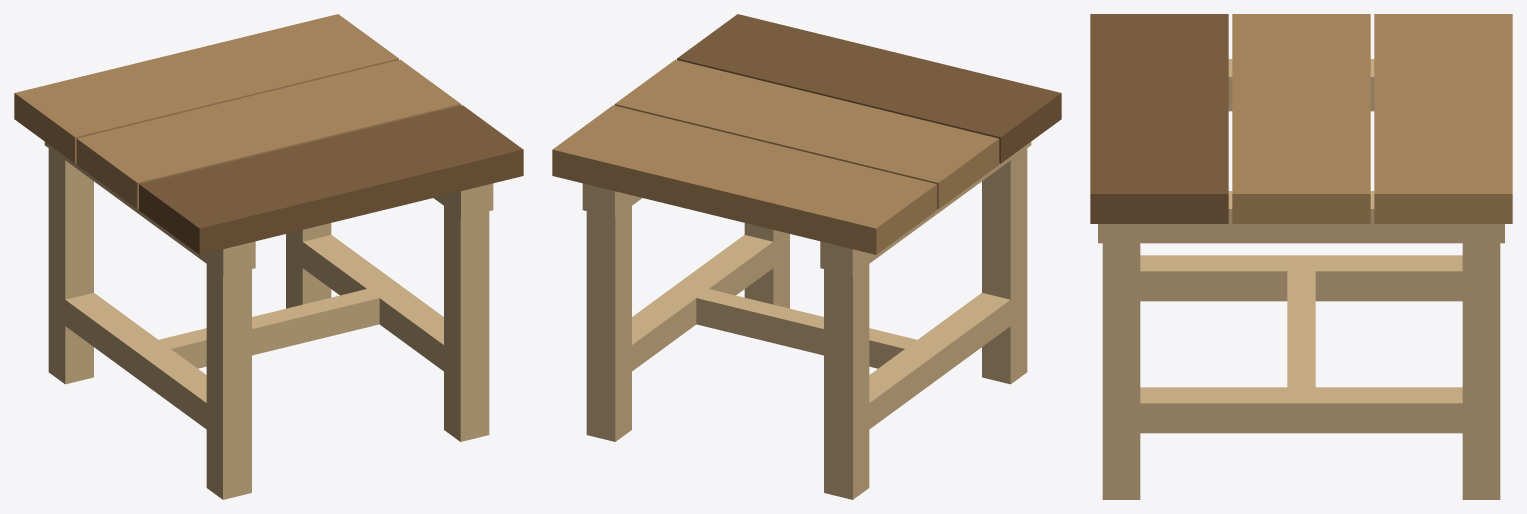
Rendered from TW_TABLE_SQUARE_A_LOD0.glb.
3 renders of one model, left to right at view 1: azimuth 30°, elevation 25°; view 2: azimuth 150°, elevation 25°; view 3: azimuth 270°, elevation 25°, orthographic. The views are drawn at different scales.
Visible parts, largest first — view 1: TW_TABLE_SQUARE_A_LOD0; view 2: TW_TABLE_SQUARE_A_LOD0; view 3: TW_TABLE_SQUARE_A_LOD0.
Part boxes in pixels (x1,y1,x2,y2): TW_TABLE_SQUARE_A_LOD0: [14, 14, 523, 499]; TW_TABLE_SQUARE_A_LOD0: [552, 14, 1061, 499]; TW_TABLE_SQUARE_A_LOD0: [1090, 14, 1512, 499].
Size of the model in its own units: 0.9 by 0.75 by 0.892.
1 material, 1 textured.
